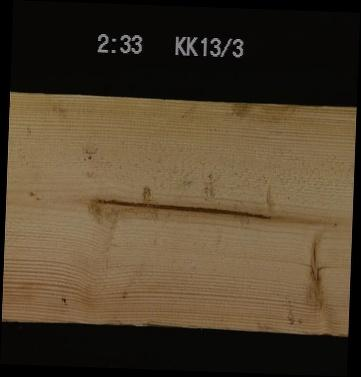small_knot: (327, 216, 343, 230)
